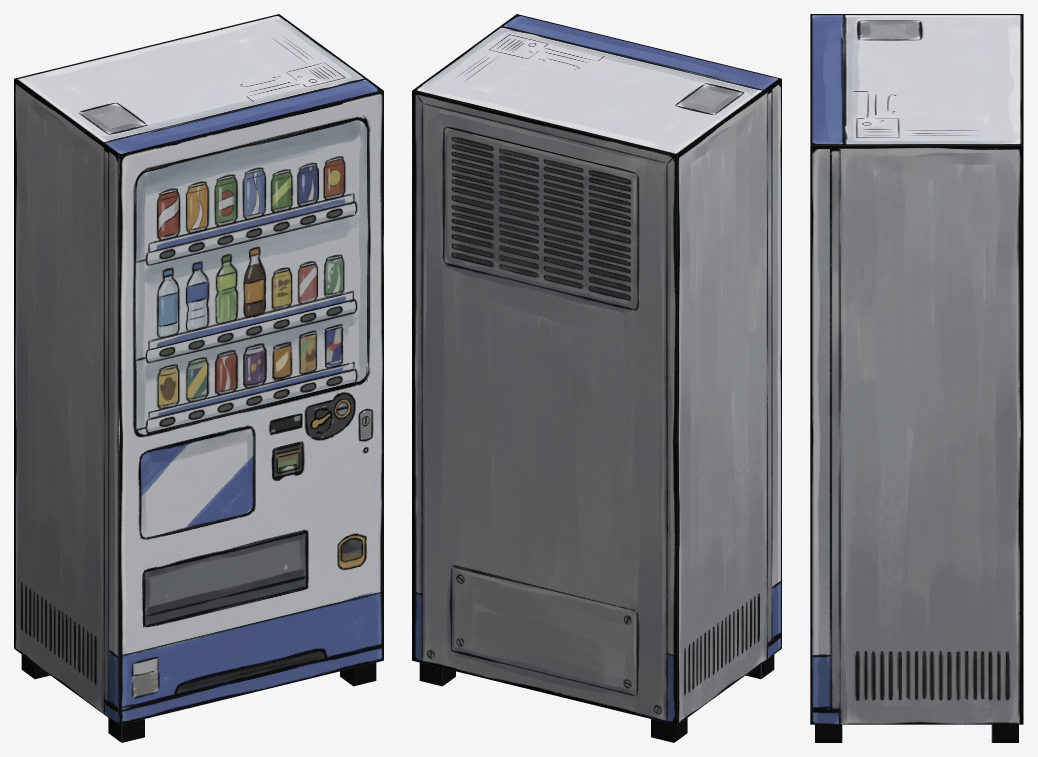
Rendered from 자판기.fbx.
3 renders of one model, left to right at view 1: azimuth 30°, elevation 25°; view 2: azimuth 150°, elevation 25°; view 3: azimuth 270°, elevation 25°, orthographic.
Visible parts, largest first — view 1: 폴리곤_1; view 2: 폴리곤_1; view 3: 폴리곤_1.
Part boxes in pixels (bbox=[...]): 폴리곤_1: bbox=[14, 14, 383, 742]; 폴리곤_1: bbox=[412, 14, 781, 742]; 폴리곤_1: bbox=[810, 14, 1023, 742].
Size of the model in its own units: 32.13 by 68.38 by 22.
1 material, 1 textured.
